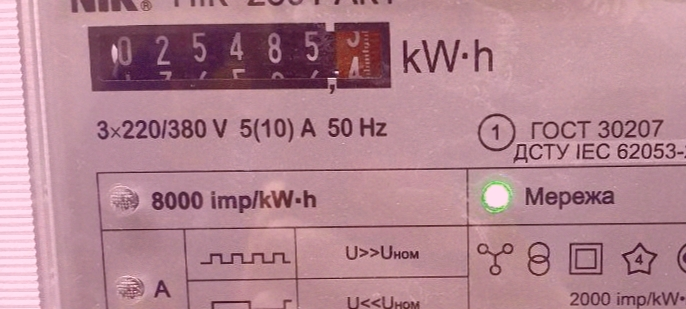0: (114, 34, 135, 69)
2: (153, 33, 173, 69)
4: (226, 30, 247, 64), (345, 54, 364, 83)
5: (301, 29, 322, 66), (189, 30, 209, 65)
8: (265, 29, 285, 67)
screen: (79, 15, 401, 104)
